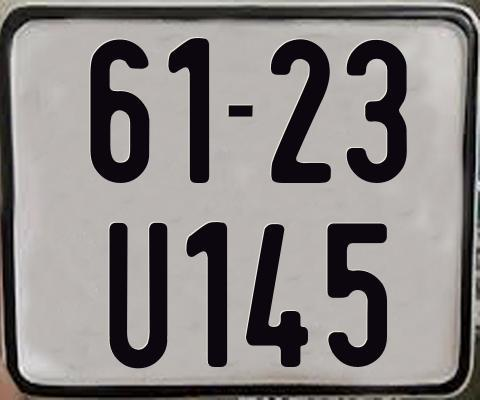1: (168, 35, 212, 186), (185, 221, 229, 367)
2: (271, 38, 337, 185)
3: (346, 39, 410, 185)
4: (243, 224, 305, 372)
5: (325, 222, 389, 366)
6: (90, 38, 153, 184)
U: (109, 220, 170, 371)
